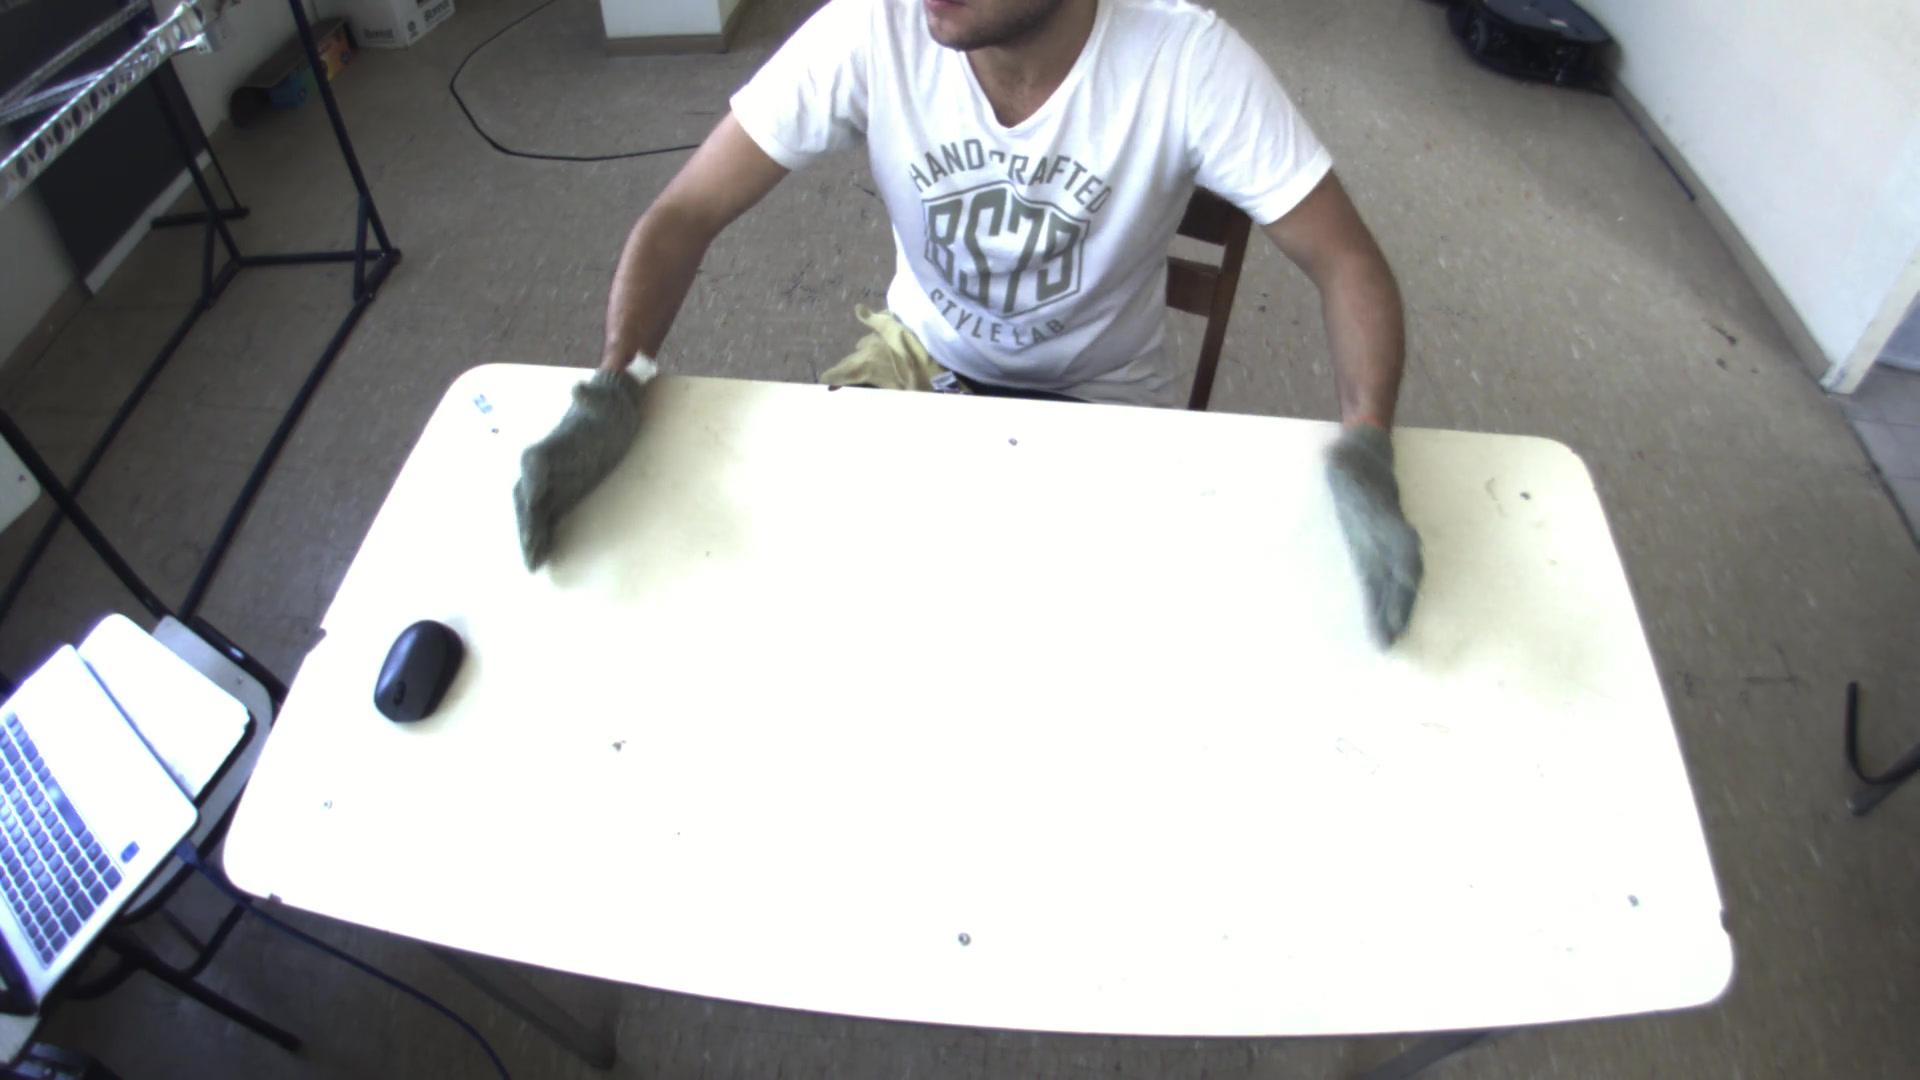hand: (1317, 407, 1451, 663), (502, 357, 646, 575)
